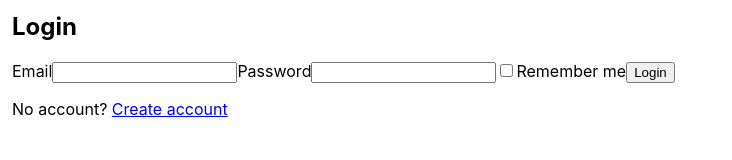
Test case: Login page › disables the submit button while the request is in flight
Type "a@b.com" into the field labelled "Email" at (145, 72), box [52,62,237,83]
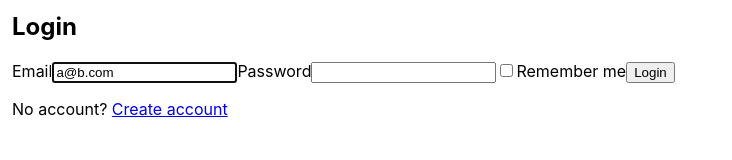
Type "SecurePass123!" into the password field labelled "Password" at (404, 72), box [311,62,496,83]
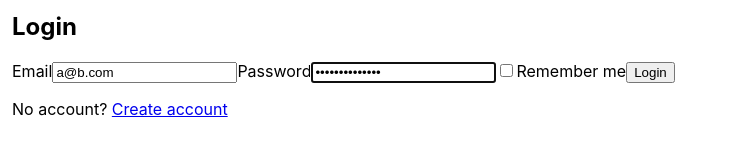
Click the button "Login" at (650, 72), box [626,62,675,83]
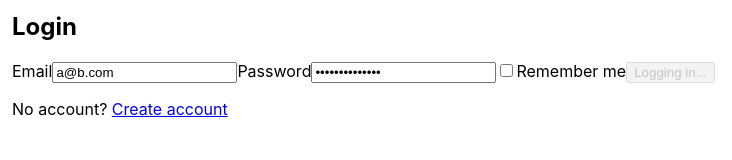
Result: the button "Logging in..." is disabled at [626,62,715,83]
